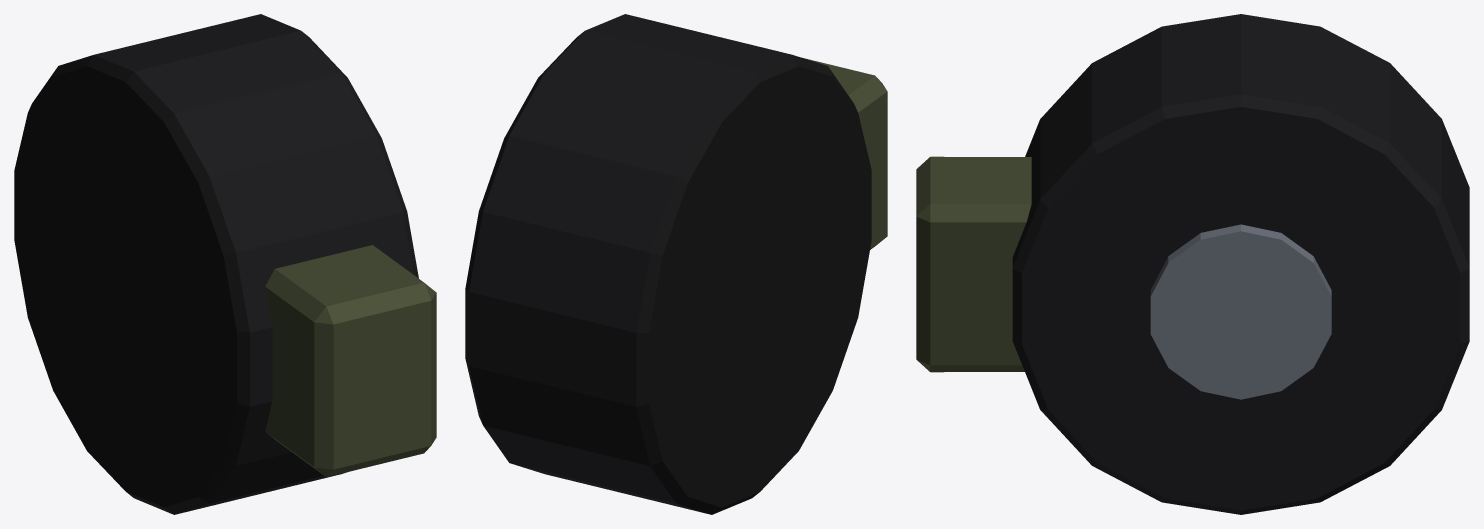
The model's file is mag_drum.glb.
The picture shows the model from 3 angles, left to right: view 1: azimuth 30°, elevation 25°; view 2: azimuth 150°, elevation 25°; view 3: azimuth 270°, elevation 25°; orthographic projection.
Visible parts, largest first — view 1: mag_drum; view 2: mag_drum; view 3: mag_drum.
Part boxes in pixels (x1,y1,x2,y2): mag_drum: [14, 14, 436, 514]; mag_drum: [465, 14, 887, 514]; mag_drum: [916, 14, 1469, 514].
Bounding box in the file's own units: 0.0485 × 0.1 × 0.1193.
